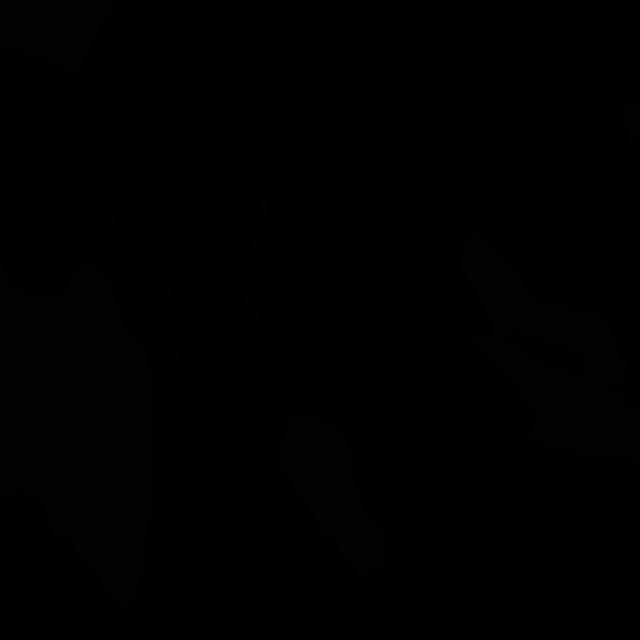cardboard: (0, 257, 155, 609), (458, 228, 628, 391), (458, 332, 640, 464), (280, 415, 387, 577), (624, 96, 640, 149)
rigid_plastic: (239, 177, 376, 346), (63, 205, 186, 365)
